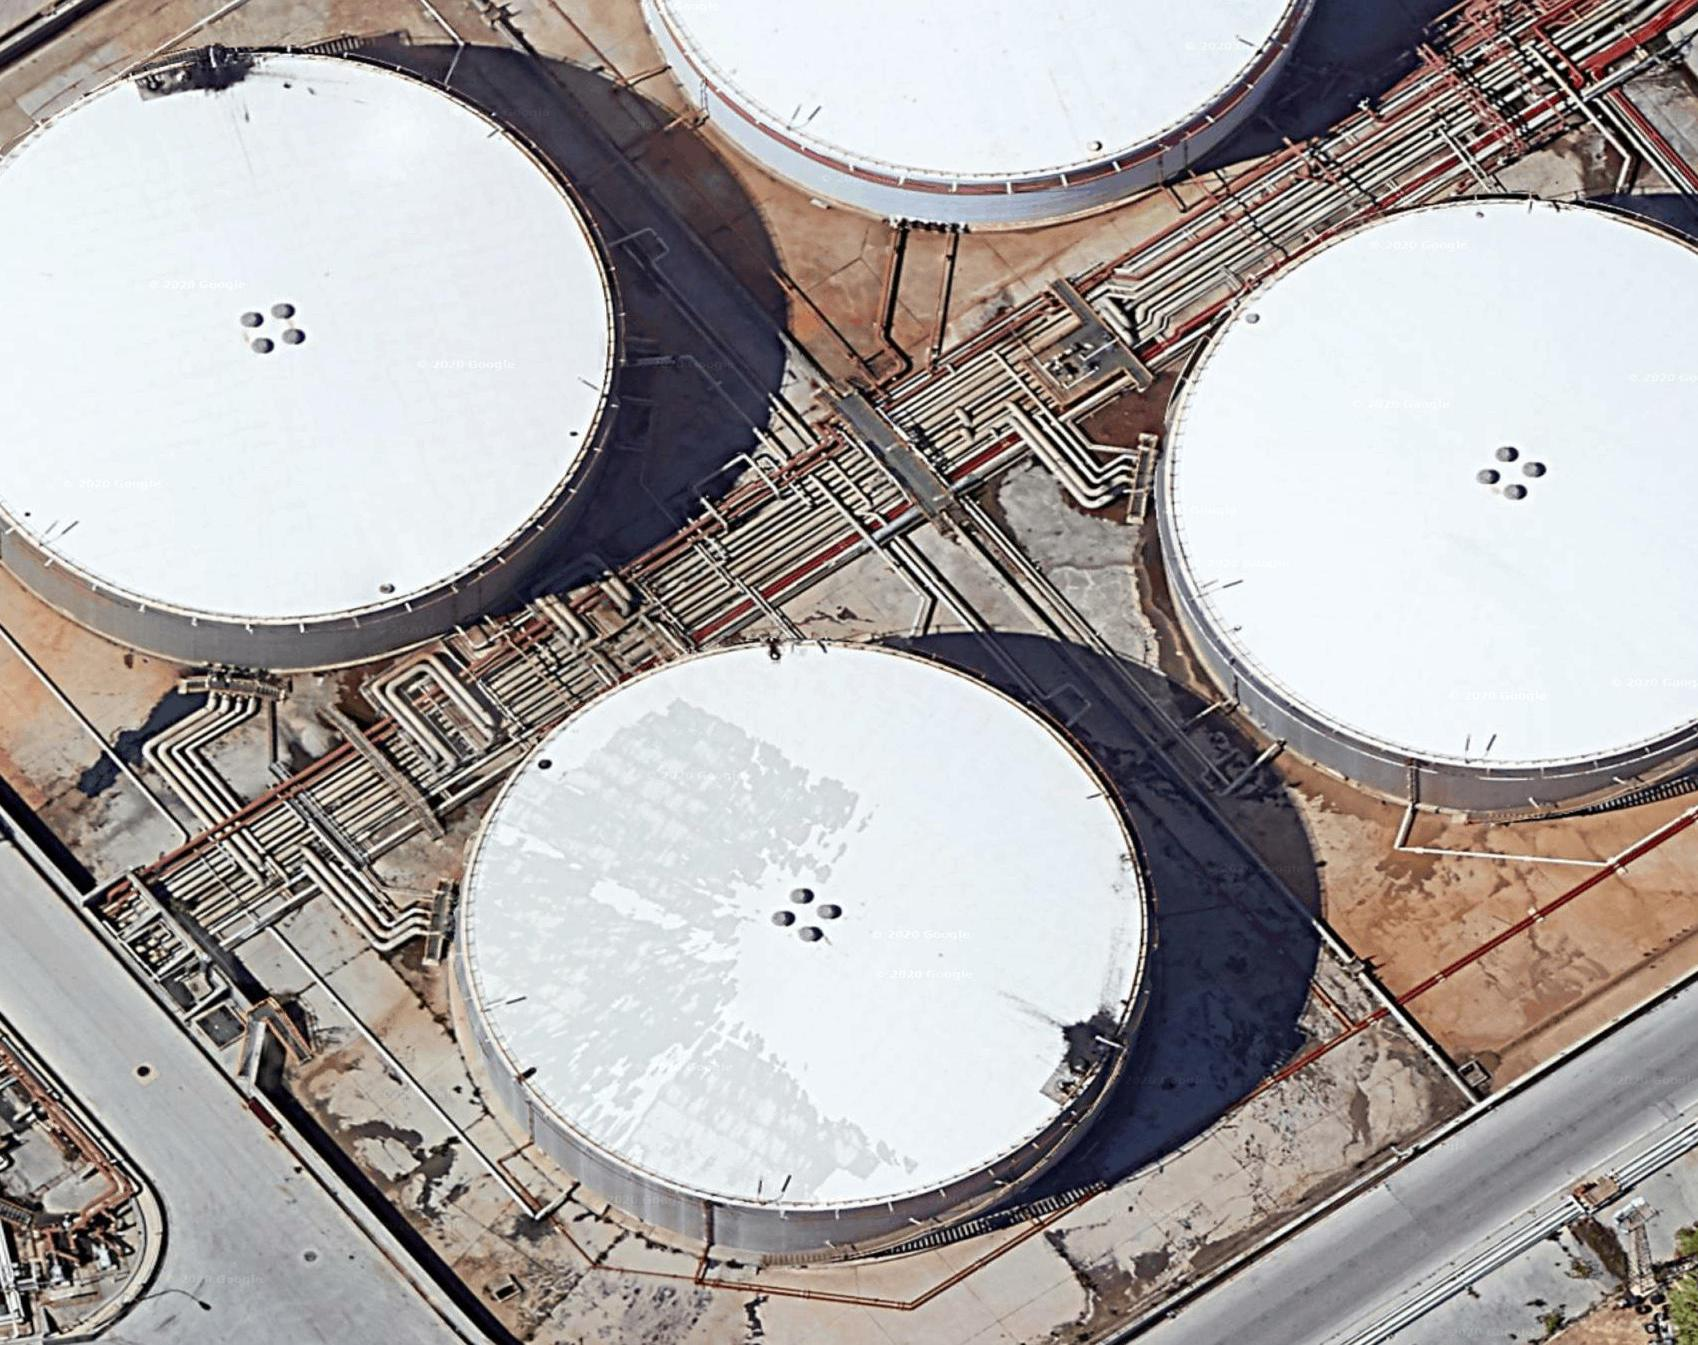storage-tank: (442, 606, 1176, 1260), (6, 55, 630, 666), (1130, 175, 1698, 825), (617, 1, 1360, 232)
